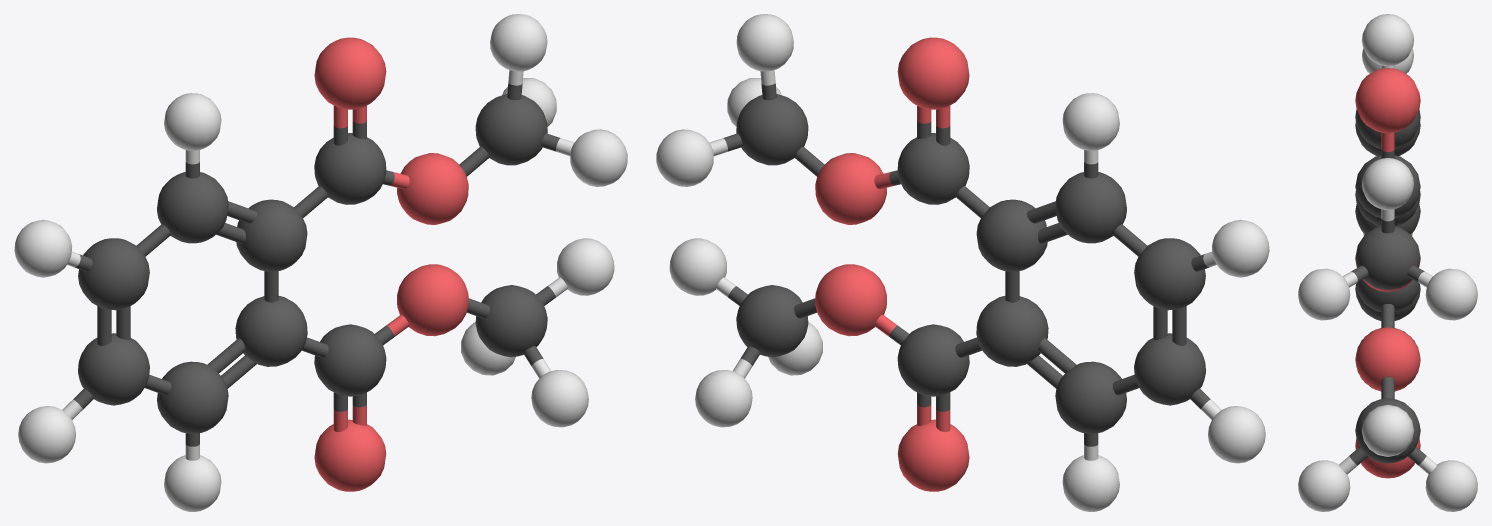
The model's file is 08_Benceno.fbx.
3 renders of one model, left to right at view 1: azimuth 30°, elevation 25°; view 2: azimuth 150°, elevation 25°; view 3: azimuth 270°, elevation 25°, orthographic. The views are drawn at different scales.
Parts seen in each view (by area): view 1: m_benceno; view 2: m_benceno; view 3: m_benceno.
Boxes of the visible parts, bbox=[...] form: m_benceno: bbox=[14, 14, 627, 511]; m_benceno: bbox=[656, 14, 1269, 511]; m_benceno: bbox=[1298, 14, 1477, 511].
Bounding box in the file's own units: 549 × 1364 × 1888.
